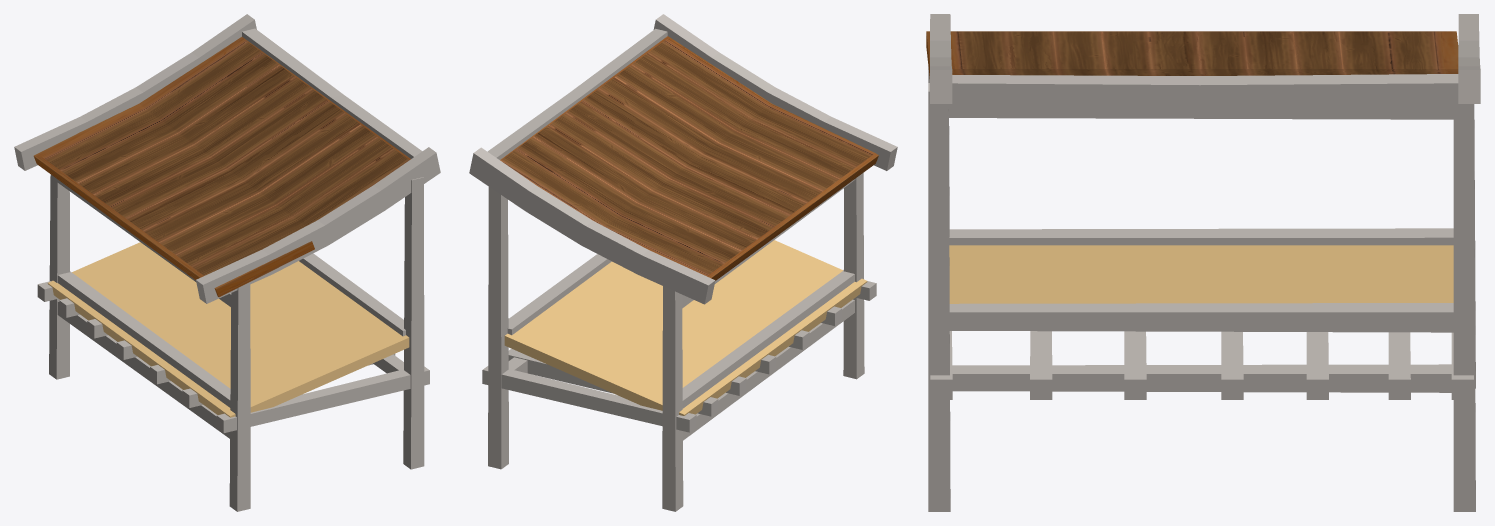
File: Store_F.fbx
3 views of the same model, side by side, from view 1: azimuth 30°, elevation 25°; view 2: azimuth 150°, elevation 25°; view 3: azimuth 270°, elevation 25° (orthographic). The views are drawn at different scales.
Visible parts, largest first — view 1: Store_F; view 2: Store_F; view 3: Store_F.
Part boxes in pixels (x1=…): Store_F: x1=14, y1=14, x2=440, y2=511; Store_F: x1=469, y1=14, x2=897, y2=511; Store_F: x1=926, y1=14, x2=1480, y2=511.
Size of the model in its own units: 379 by 473 by 527.
